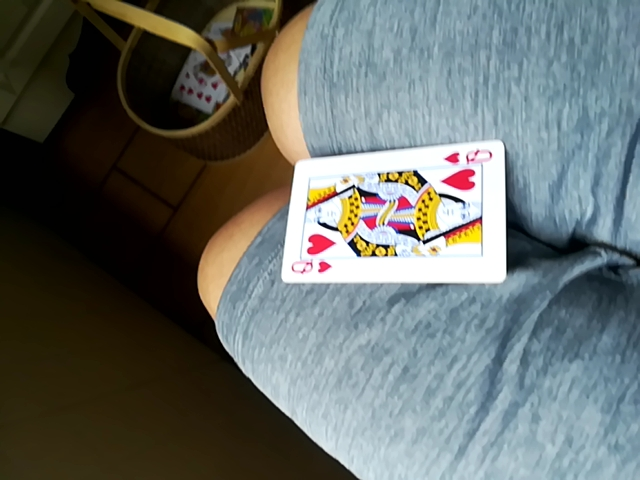hx q: (280, 138, 505, 285)
